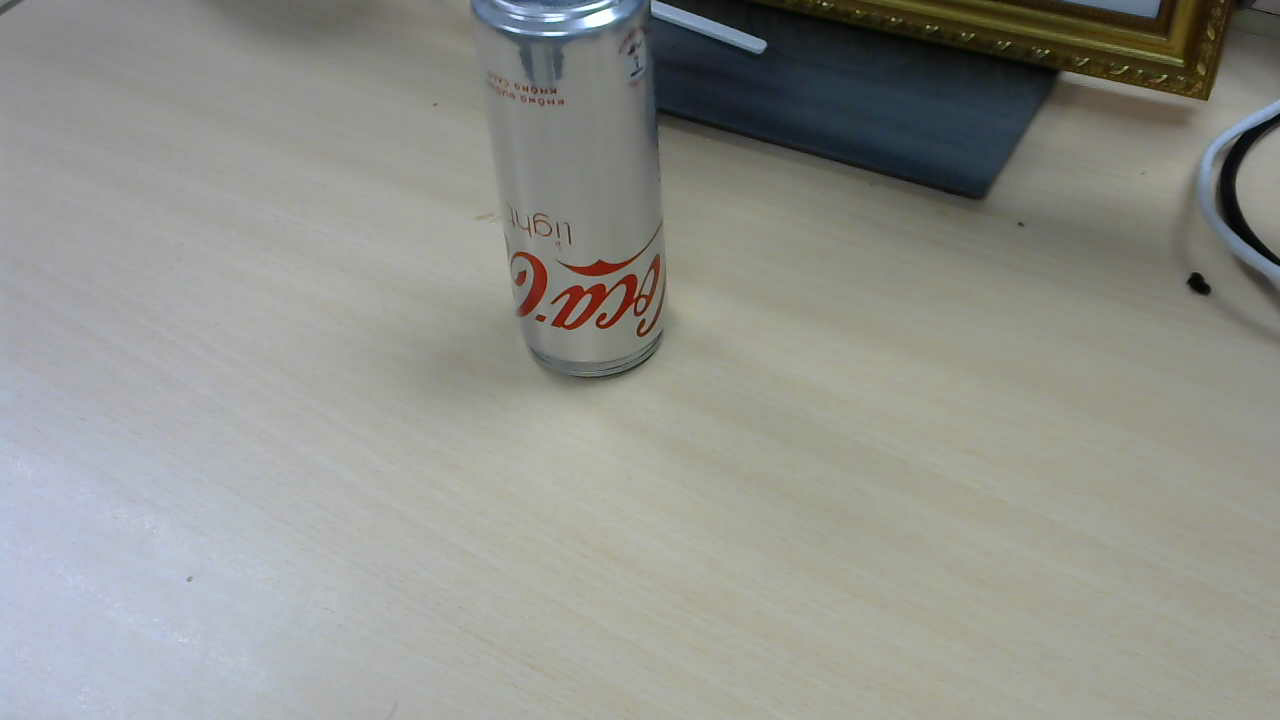Coca_Cola: (474, 3, 676, 387)
